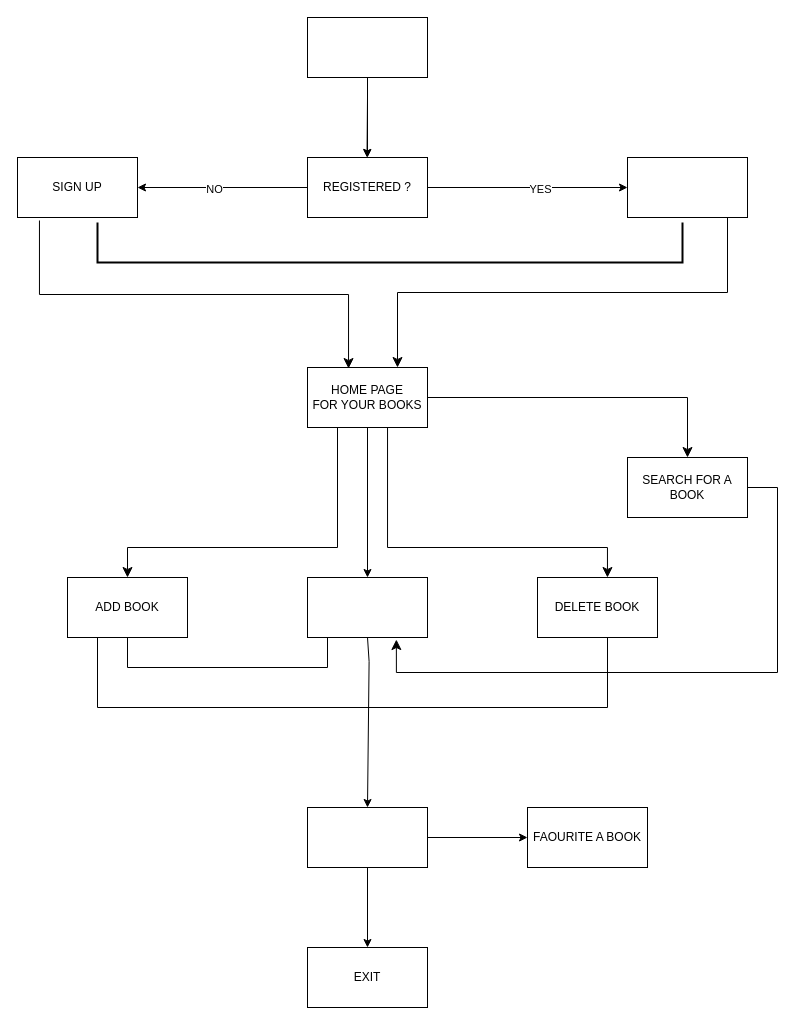
This 805x1025 diagram has some shape labels left out. Each missing label, with the box of its shape:
LOG IN: (626, 156, 748, 218)
READ BOOK: (306, 806, 428, 868)
SELECT BOOK: (306, 576, 428, 638)
START: (306, 16, 428, 78)
